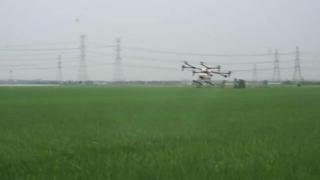UAV: (181, 61, 232, 86)
